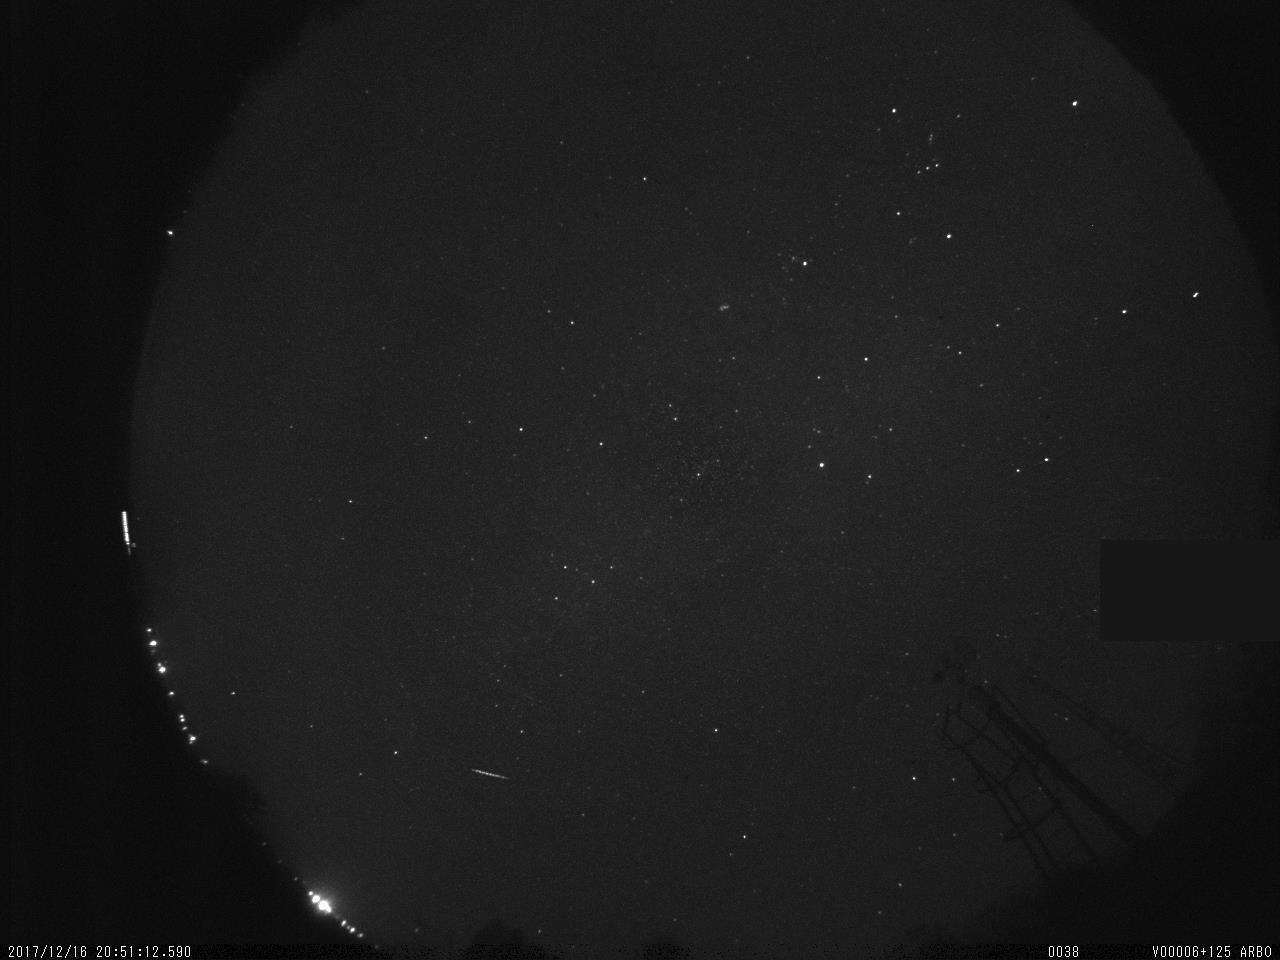Meteor: (465, 761, 515, 788)
